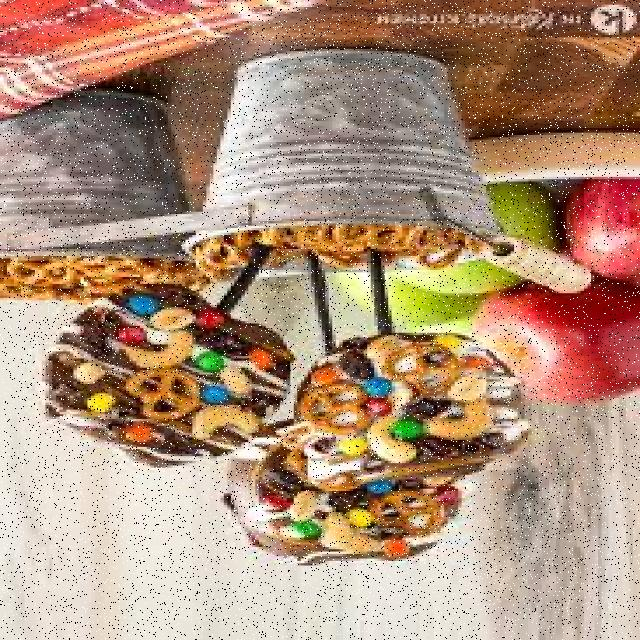Apple: (476, 290, 640, 409), (566, 170, 636, 280), (481, 202, 544, 286)
